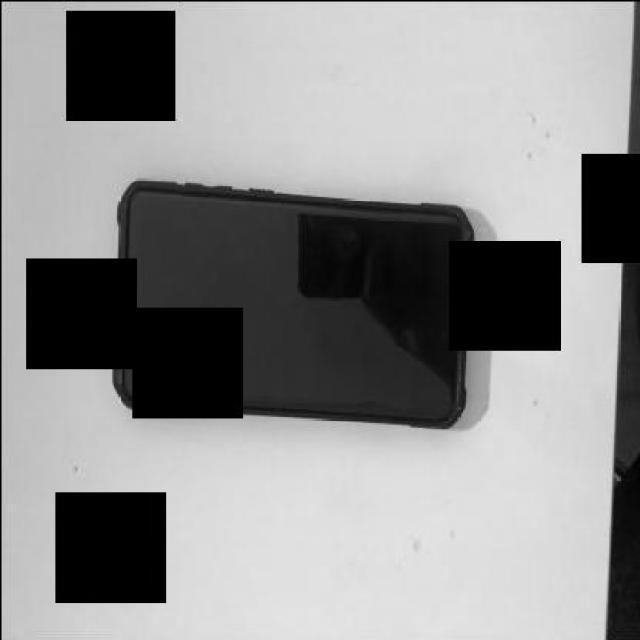fake: (104, 176, 478, 436)
